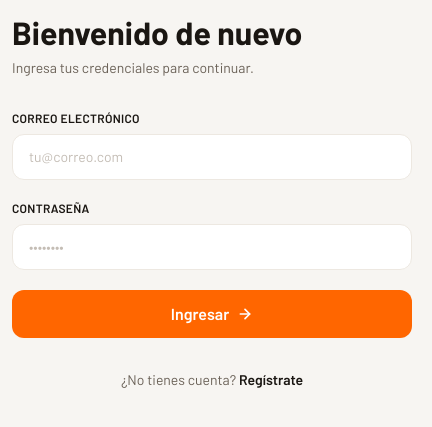
Test: LoginPage › shows validation error for short password
The width and height of the screenshot is (432, 427).
Type "user@example.com" into the field labelled "Correo electrónico" at coordinates (212, 157), box left=12, top=134, right=412, bottom=180
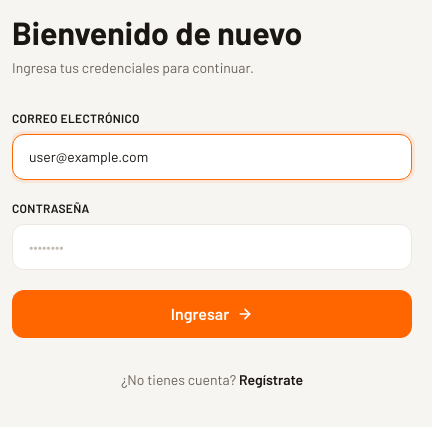
Type "1234567" into the password field labelled "Contraseña" at coordinates (212, 247), box left=12, top=224, right=412, bottom=270
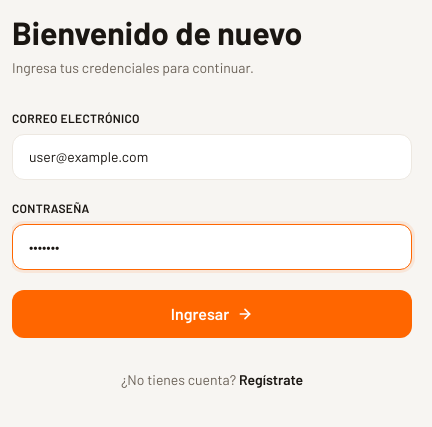
Click the button "Ingresar" at coordinates (212, 314), box left=12, top=290, right=412, bottom=338
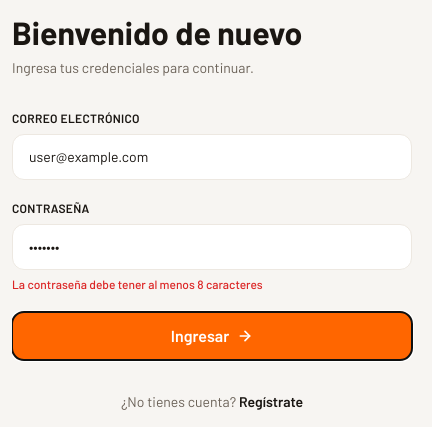
Expected: the text "La contraseña debe tener al menos 8 caracteres" is shown, left=12, top=277, right=263, bottom=291
